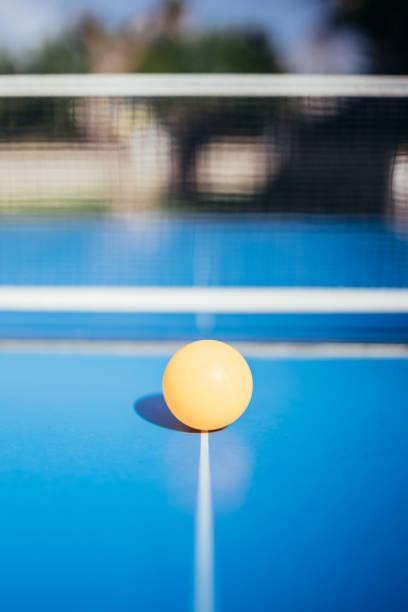orange: (163, 339, 252, 429)
